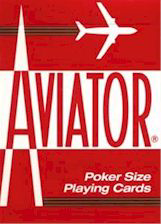grozi_57: (0, 0, 160, 224)
